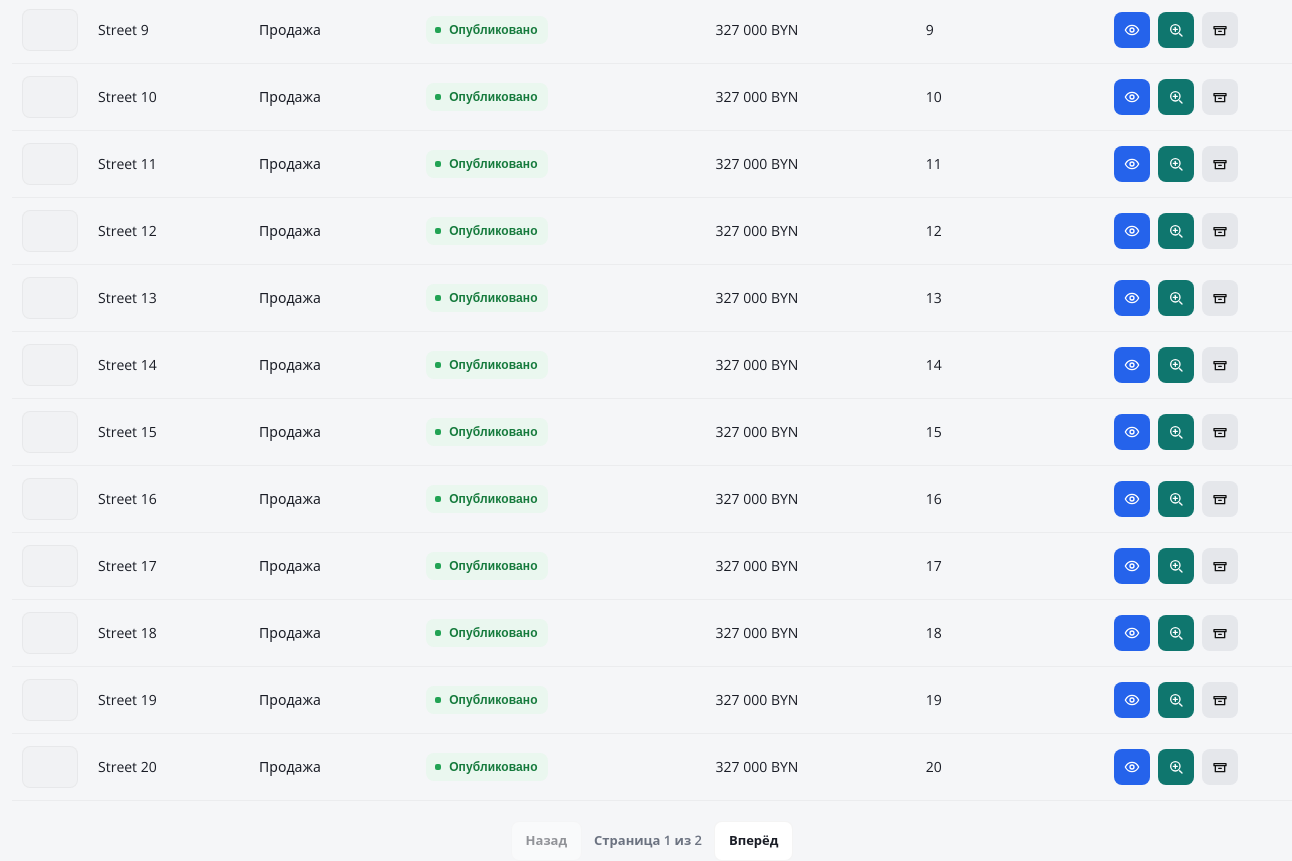
AccountListingsView › loads listings with page size 20 and paginates
The image size is (1292, 861).
(page scrolled)
Click the button with class "account-listings__page-btn" showing "Вперёд". click: (754, 840)
box: left=714, top=820, right=794, bottom=860
(page scrolled)
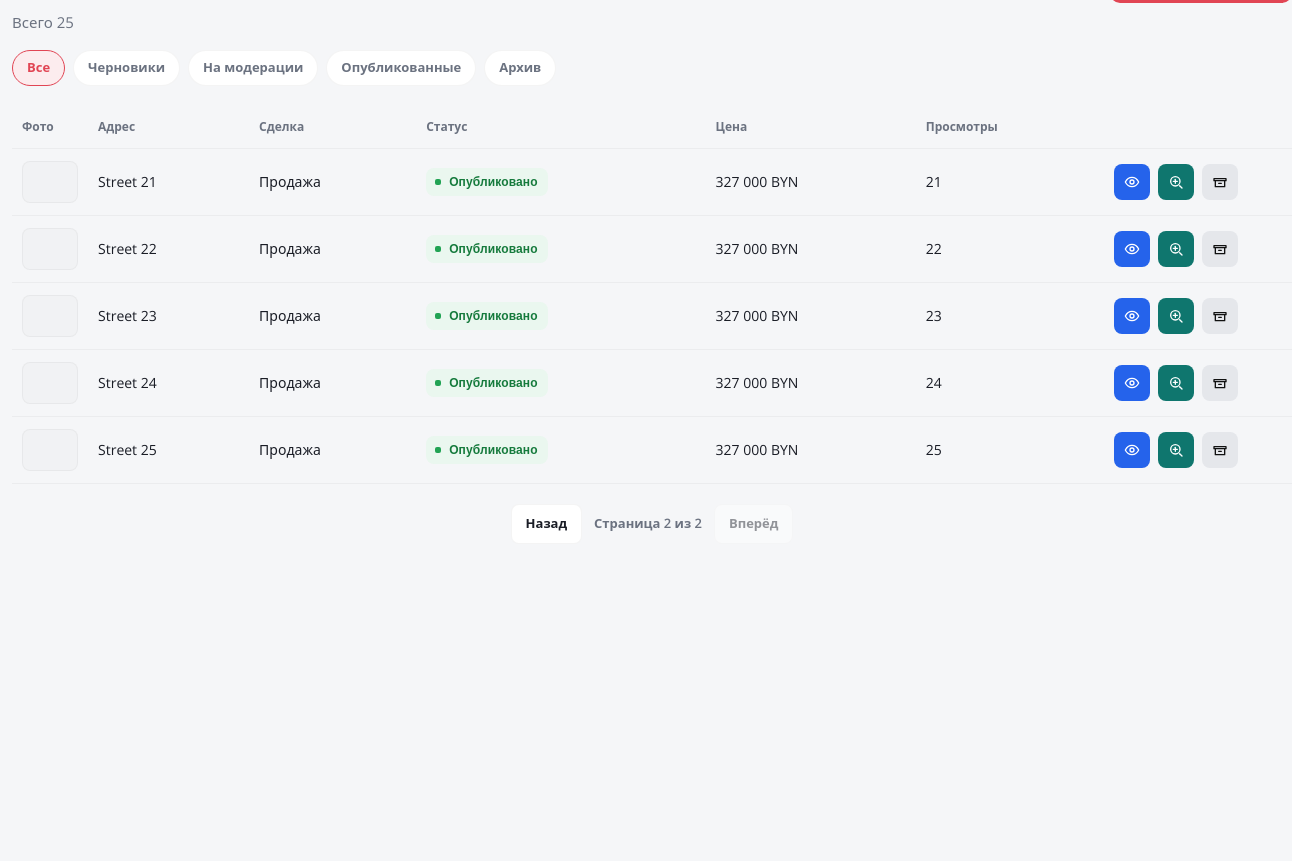
Now the text "Страница 2 из 2" is shown, box left=594, top=514, right=702, bottom=533
